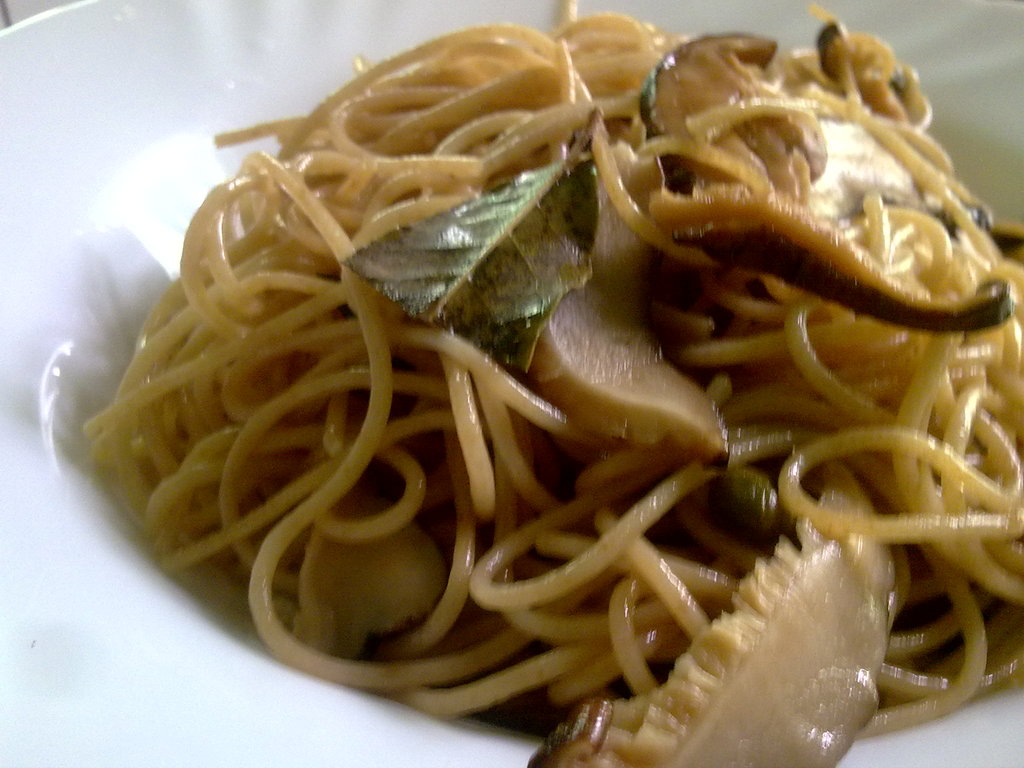pasta: (83, 3, 1021, 739)
